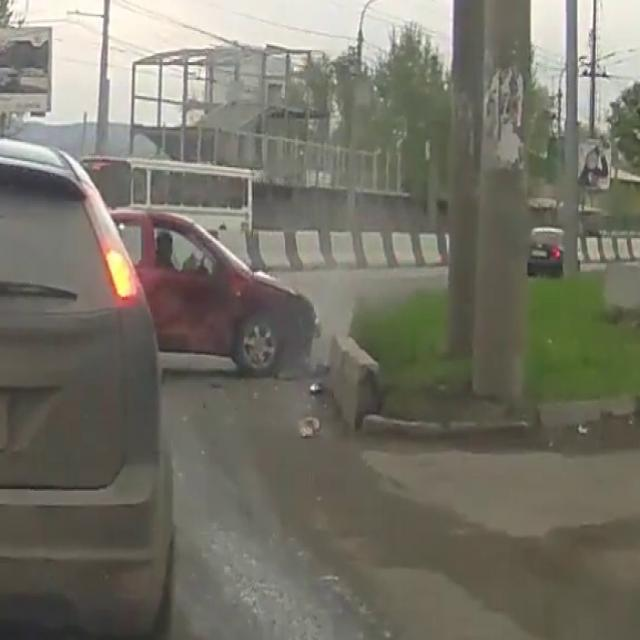accident: (138, 194, 370, 396)
